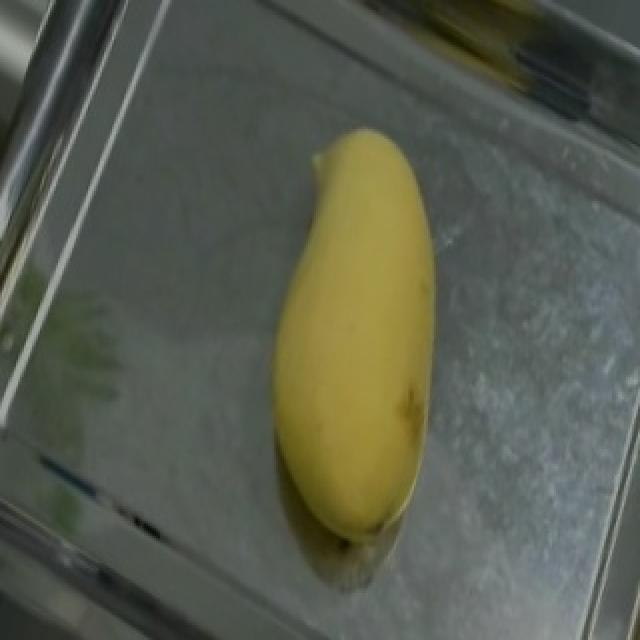fruit: (266, 80, 526, 518)
